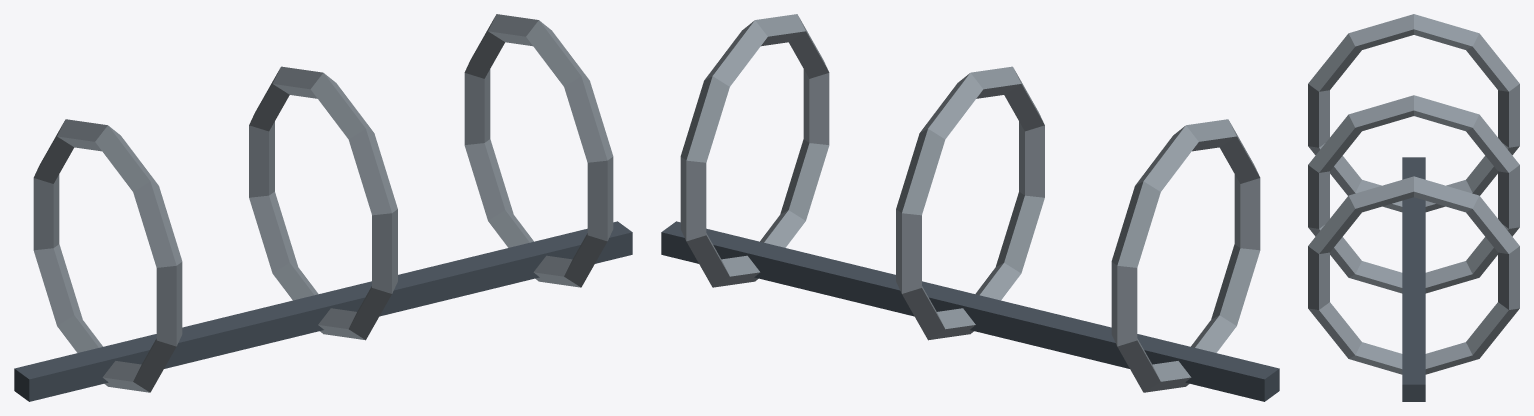
Rendered from prop_bikerack.glb.
The picture shows the model from 3 angles, left to right: view 1: azimuth 30°, elevation 25°; view 2: azimuth 150°, elevation 25°; view 3: azimuth 270°, elevation 25°; orthographic projection. The views are drawn at different scales.
Parts seen in each view (by area): view 1: rail.010, hoop.005, hoop.003, hoop.004; view 2: rail.010, hoop.005, hoop.003, hoop.004; view 3: hoop.005, hoop.004, hoop.003, rail.010.
Boxes of the visible parts, box(x1,y1,x2,y2) form: rail.010: box(14, 221, 632, 401); hoop.005: box(464, 14, 613, 287); hoop.003: box(33, 119, 182, 392); hoop.004: box(249, 66, 397, 340); rail.010: box(661, 221, 1279, 401); hoop.005: box(680, 14, 829, 287); hoop.003: box(1111, 119, 1260, 392); hoop.004: box(896, 66, 1044, 340); hoop.005: box(1308, 176, 1519, 374); hoop.004: box(1308, 95, 1519, 293); hoop.003: box(1308, 14, 1519, 212); rail.010: box(1402, 157, 1425, 401).
Size of the model in its own units: 1.4 by 0.58 by 0.5516.
